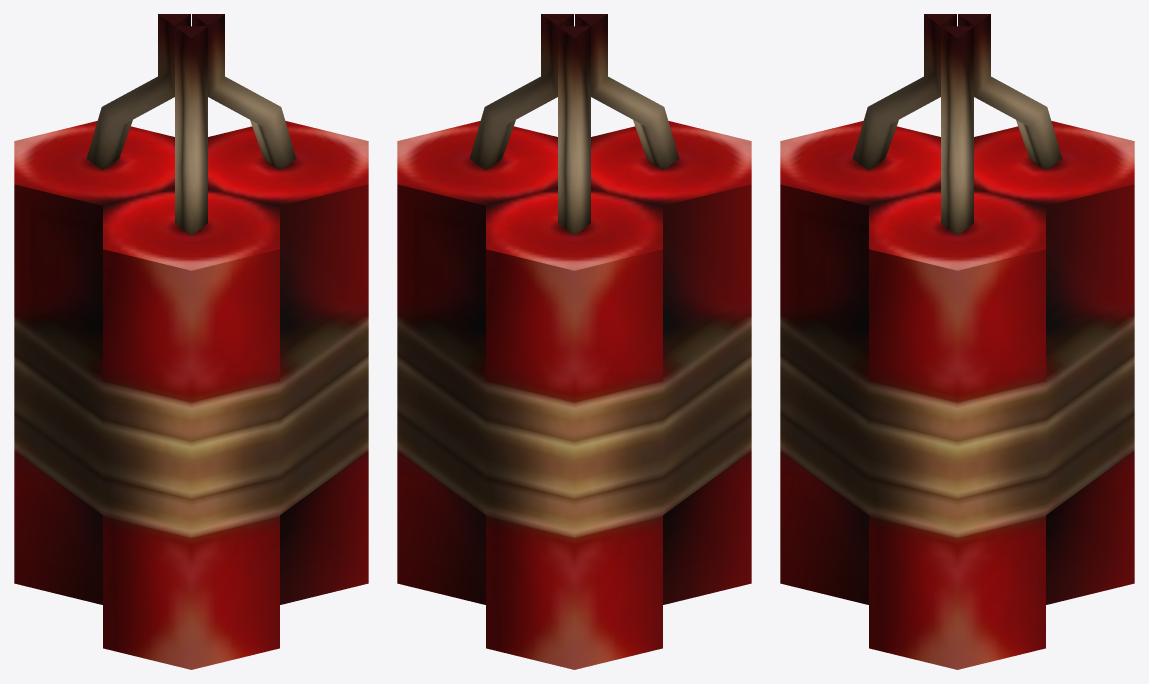
Rendered from bombbox.glb.
3 views of the same model, side by side, from view 1: azimuth 30°, elevation 25°; view 2: azimuth 150°, elevation 25°; view 3: azimuth 270°, elevation 25° (orthographic).
Parts seen in each view (by area): view 1: bombbox; view 2: bombbox; view 3: bombbox.
Boxes of the visible parts, x1,y1,x2,y2 form: bombbox: (14, 14, 368, 669); bombbox: (397, 14, 751, 669); bombbox: (780, 14, 1134, 669).
Bounding box in the file's own units: 2.4 × 4.15 × 2.37.
Materials: 1 (1 with a texture image).
